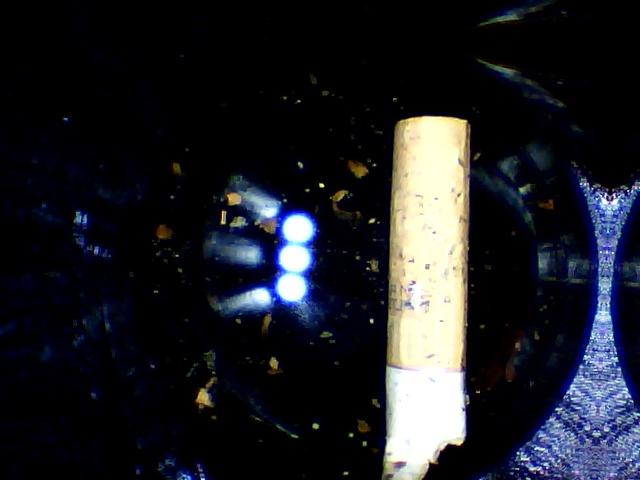megot: (366, 100, 496, 479)
